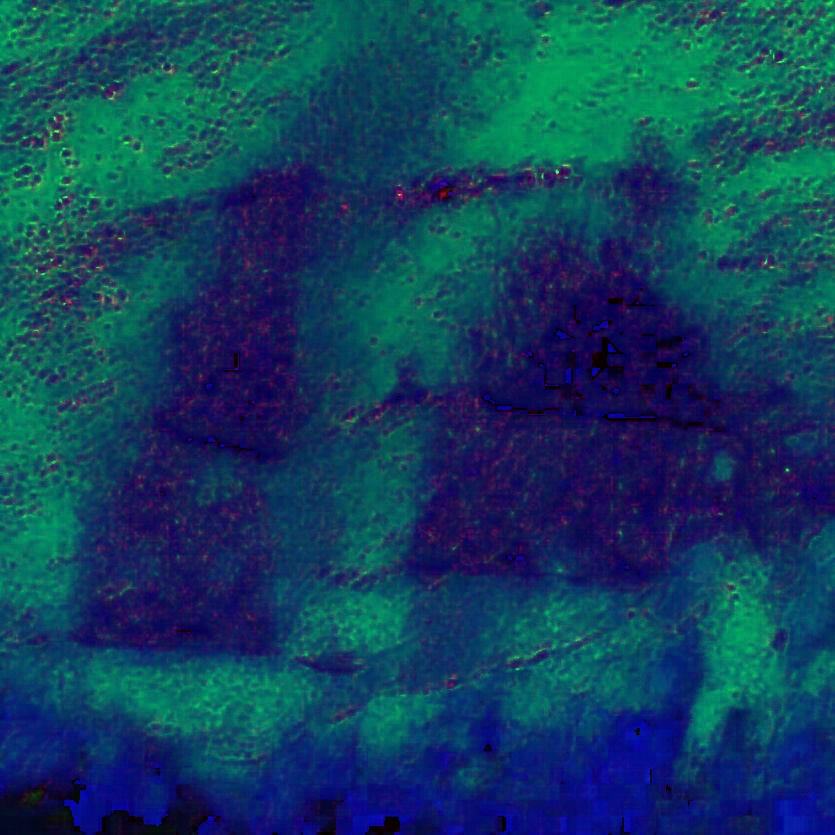rip_current: (203, 89, 602, 627)
